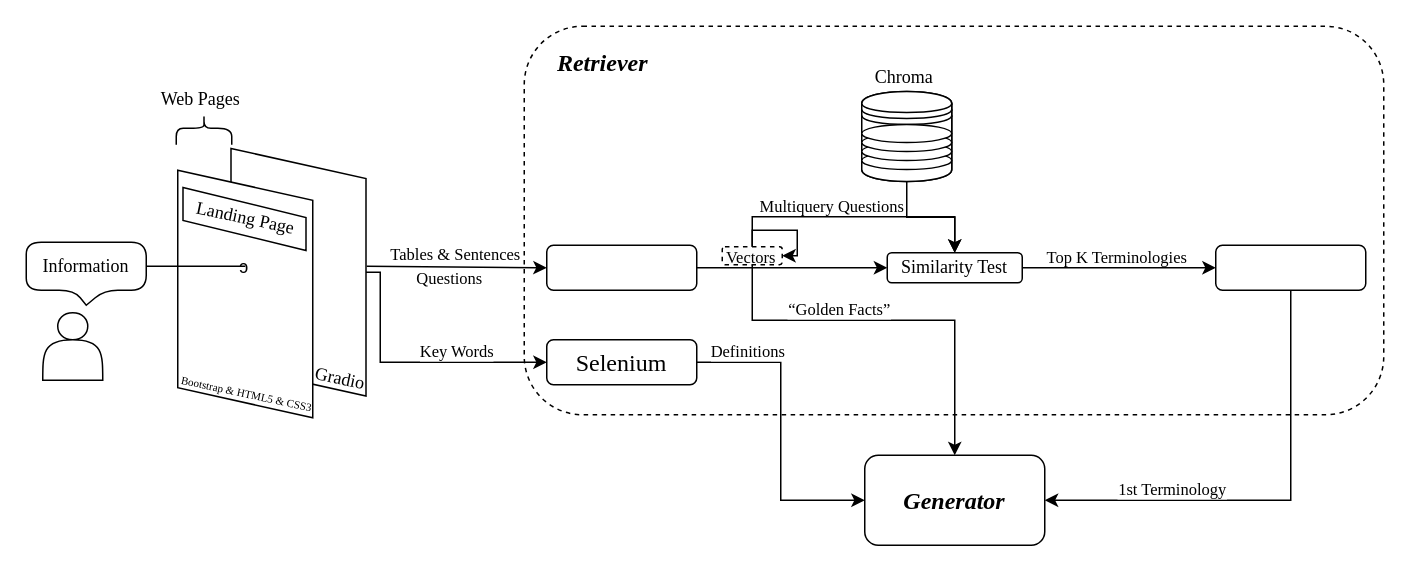
This 1410x572 diagram has some shape labels left out. Here are the shapes that lost their labels. From the top down, the box of each, then its label:
(545, 244, 697, 290): Embedding
(1214, 244, 1366, 290): Reranker
